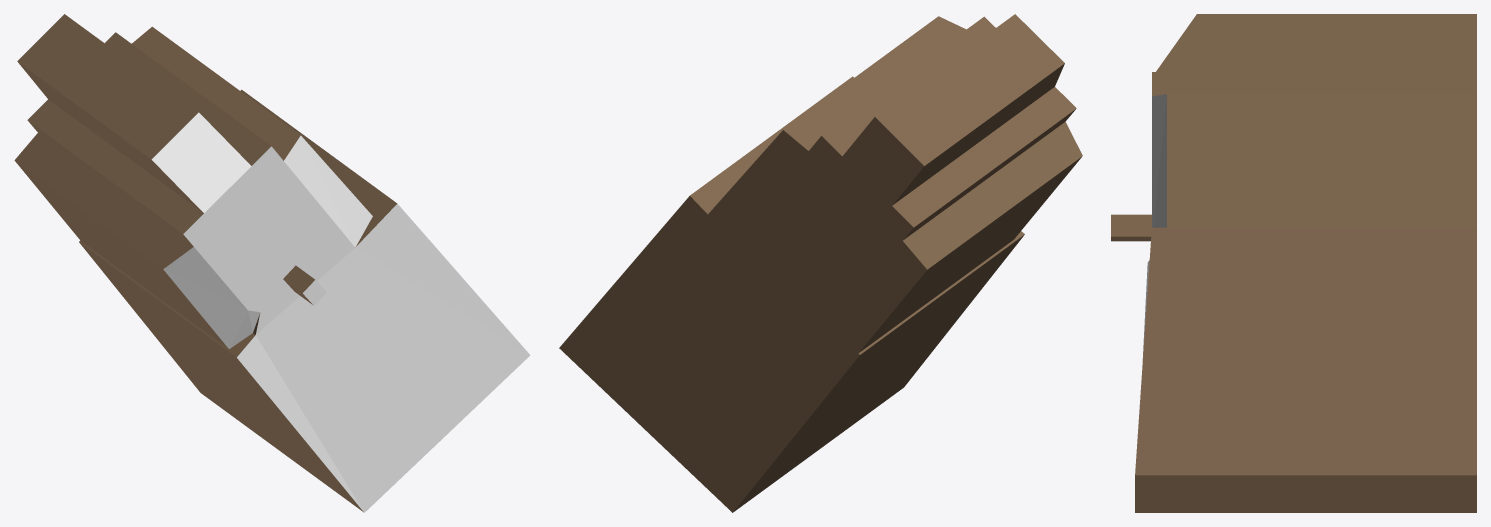
File: Groupe9951528.obj
The picture shows the model from 3 angles, left to right: view 1: azimuth 30°, elevation 25°; view 2: azimuth 150°, elevation 25°; view 3: azimuth 270°, elevation 25°; orthographic projection. The views are drawn at different scales.
Visible parts, largest first — view 1: City_Groupe9951528; view 2: City_Groupe9951528; view 3: City_Groupe9951528.
Part boxes in pixels (box(x1,y1,x2,y2)): City_Groupe9951528: box(14, 14, 530, 512); City_Groupe9951528: box(559, 14, 1082, 512); City_Groupe9951528: box(1111, 14, 1476, 512).
Bounding box in the file's own units: 1767 × 1976 × 1525.
